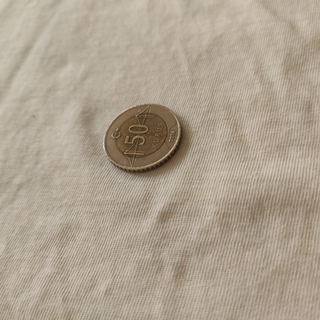50KURUS: (101, 101, 183, 174)
